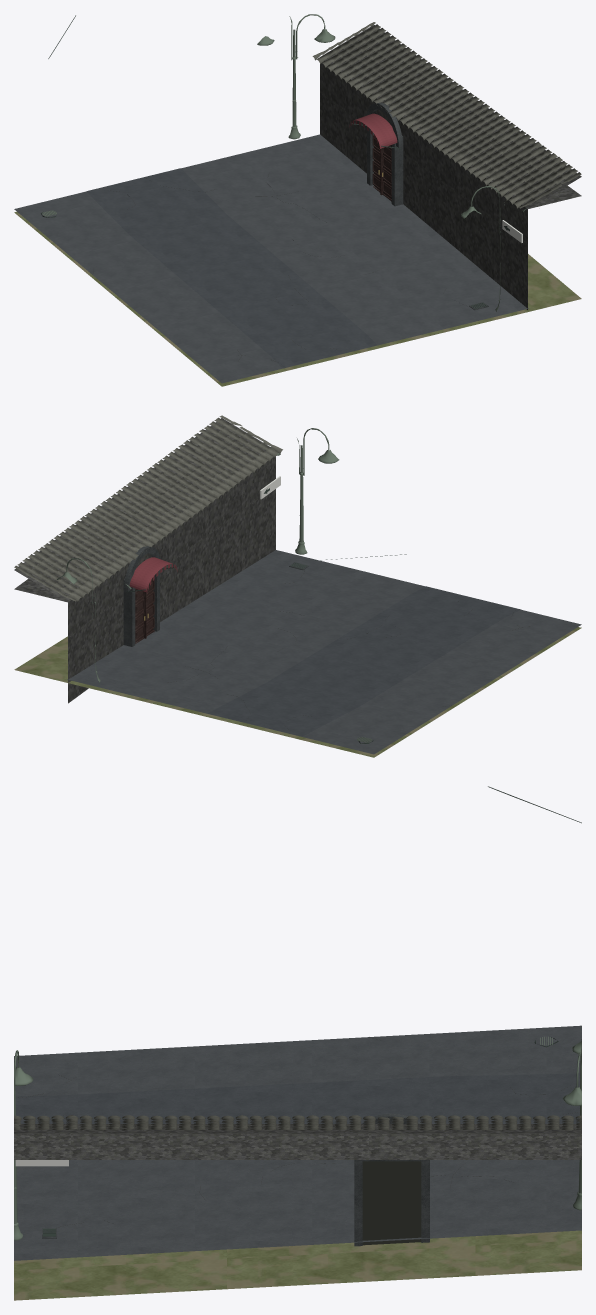
3 views of the same model, one above another, from view 1: azimuth 30°, elevation 25°; view 2: azimuth 150°, elevation 25°; view 3: azimuth 270°, elevation 25° (orthographic). The views are drawn at different scales.
Bounding box in the file's own units: 16 × 8.67 × 16.
Materials: 14 (8 with a texture image).
